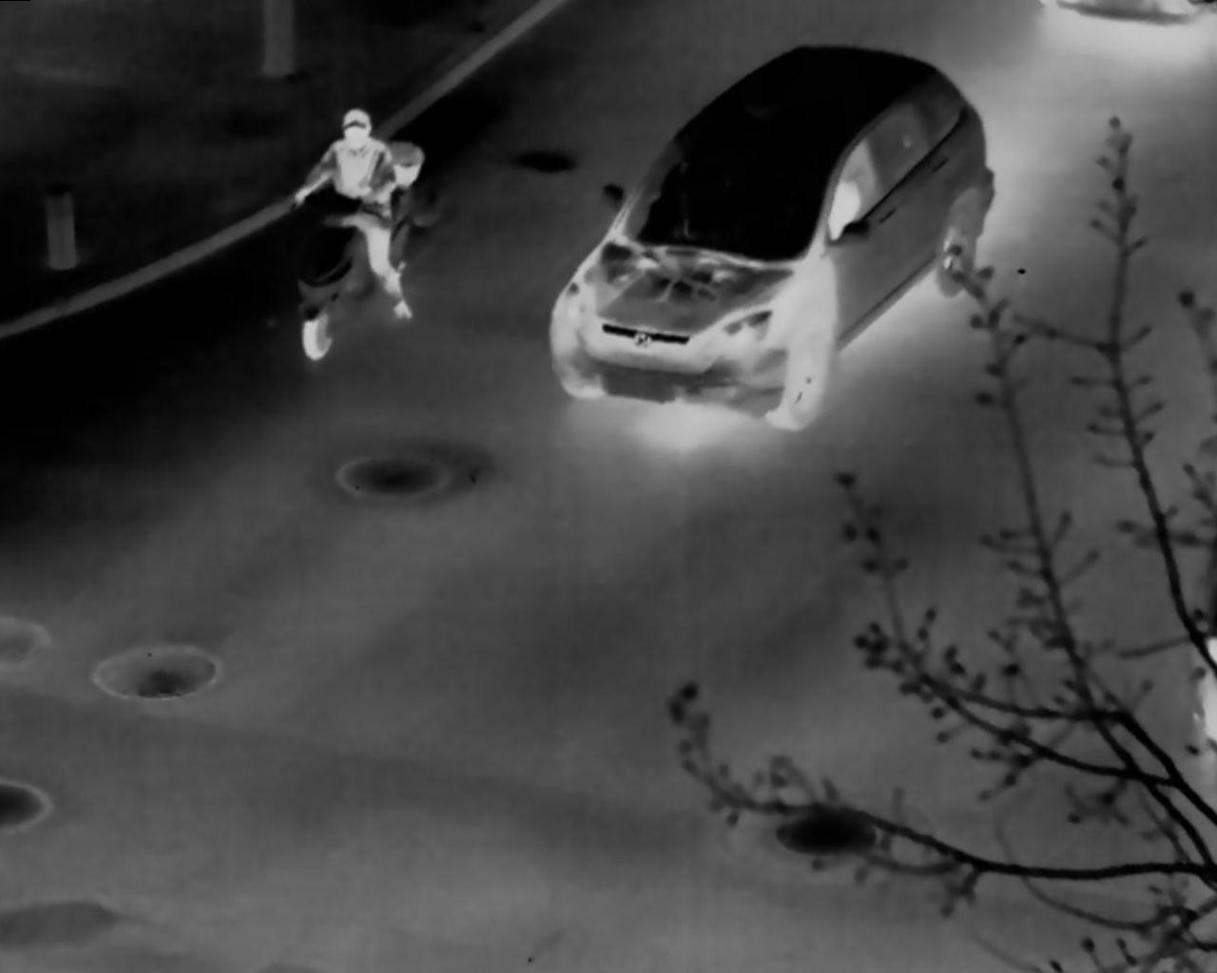person: (313, 111, 409, 304)
